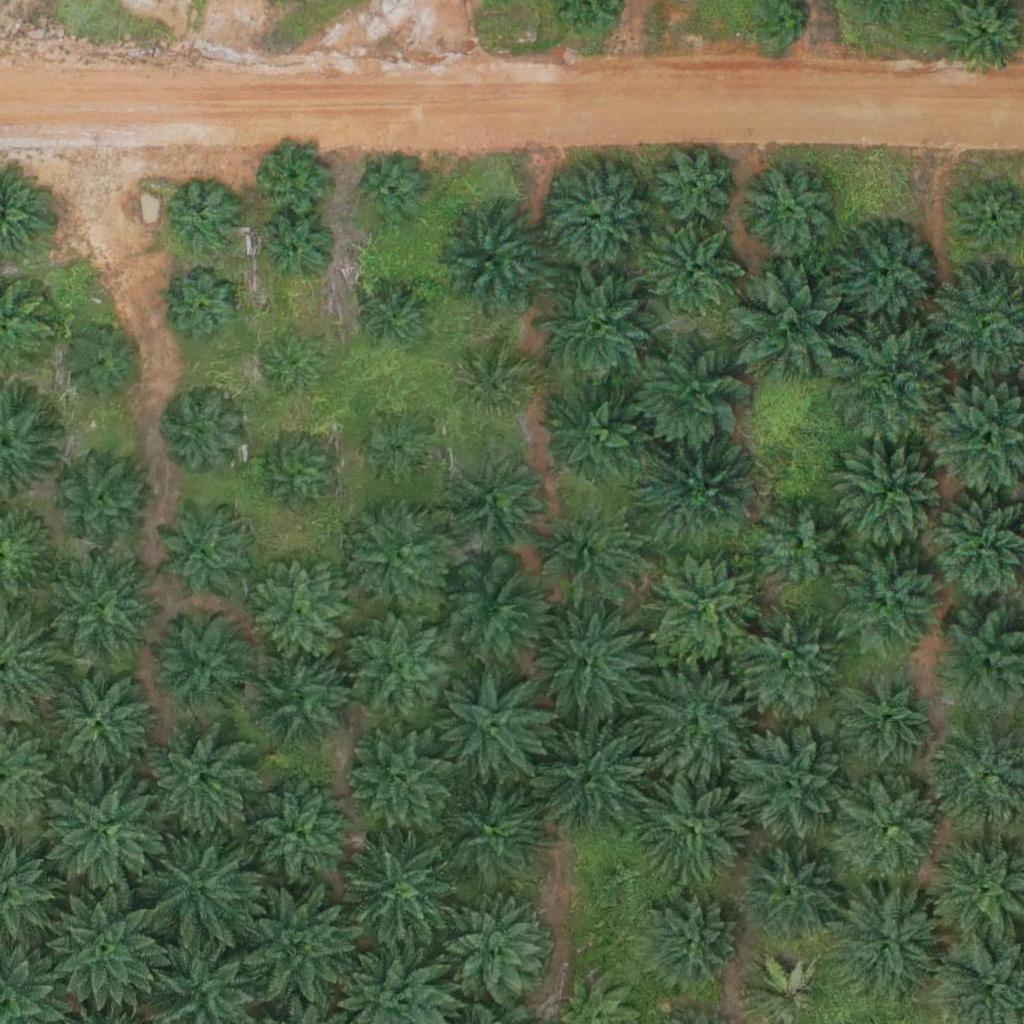Kelapa_Sawit: (428, 199, 553, 325), (430, 665, 555, 791), (535, 260, 660, 386), (630, 330, 755, 456), (727, 263, 852, 389), (830, 322, 955, 448), (428, 887, 553, 1013), (332, 827, 457, 953), (230, 770, 355, 896), (235, 880, 360, 1006), (142, 720, 267, 846), (139, 828, 264, 954), (45, 763, 170, 889), (43, 883, 168, 1009), (47, 550, 160, 664), (836, 440, 949, 554), (43, 663, 156, 776), (438, 556, 551, 669), (534, 610, 647, 723), (834, 545, 947, 658), (827, 663, 940, 776), (636, 770, 749, 883), (632, 883, 745, 996), (530, 722, 643, 835), (344, 496, 456, 609), (346, 611, 458, 724), (544, 382, 656, 495), (531, 498, 643, 611), (643, 435, 755, 548), (648, 554, 760, 667), (641, 664, 753, 777), (729, 609, 841, 722), (833, 774, 945, 887), (832, 888, 944, 1001), (733, 725, 845, 838), (435, 775, 547, 888), (344, 727, 456, 840), (545, 163, 645, 264), (54, 453, 154, 553), (156, 502, 256, 602), (158, 617, 258, 717), (249, 563, 349, 663), (248, 651, 348, 751), (644, 220, 744, 320), (834, 226, 934, 326), (161, 388, 249, 476), (256, 431, 344, 519), (758, 501, 846, 589), (748, 853, 836, 941), (453, 454, 540, 542), (650, 141, 737, 229), (744, 167, 831, 255), (70, 329, 145, 405), (459, 347, 534, 422), (167, 180, 242, 255), (167, 272, 242, 347), (251, 138, 326, 213), (255, 216, 330, 291), (353, 153, 428, 228), (356, 283, 431, 358), (362, 413, 437, 488), (261, 335, 323, 398)
